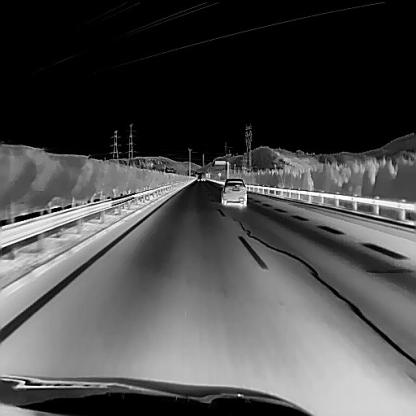car: (220, 177, 246, 206)
